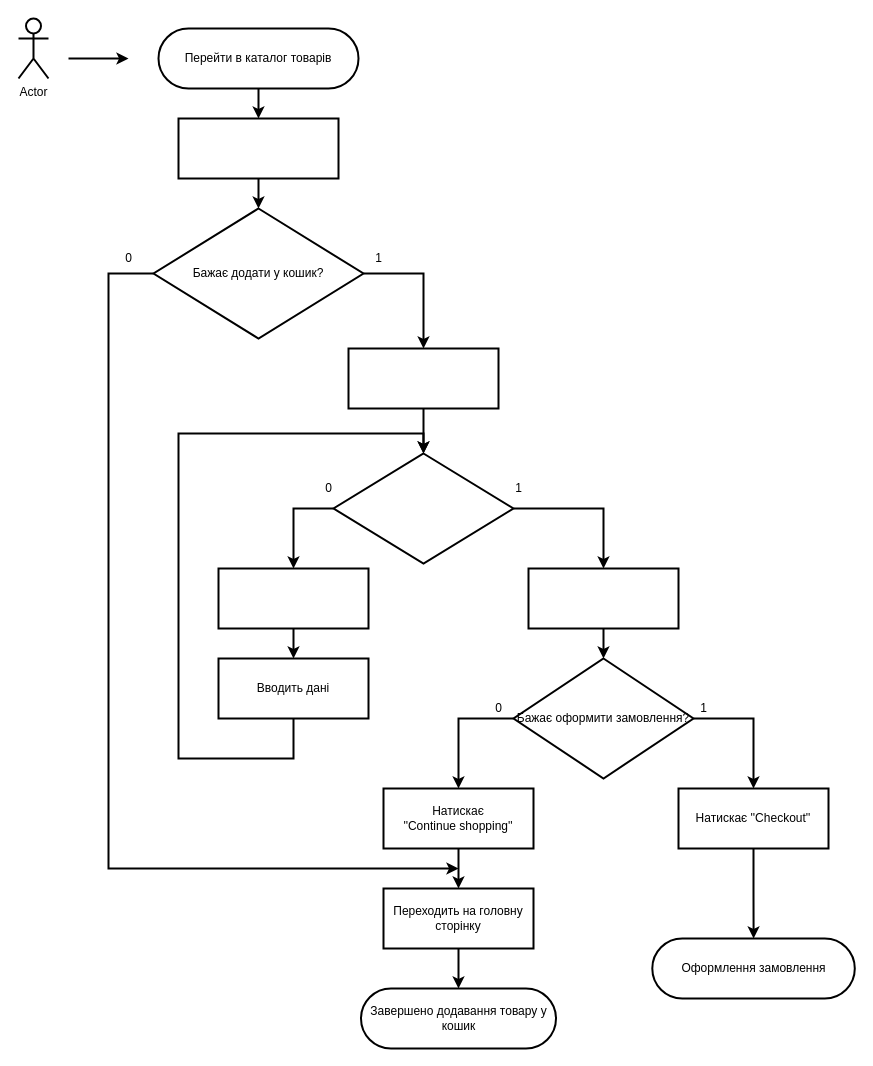
The diagram is 873 pixels wide and 1066 high, and some of its shapes have lost their labels. The centre of each missing label's shape, as x and y in pixels:
Авторизований?: pixel 423 508
Вибрати вподобаний товар: pixel 258 148
Додано до кошика: pixel 603 598
Натискає кнопку "Add to cart": pixel 423 378
Переходить на сторінку ''Log in'': pixel 293 598
